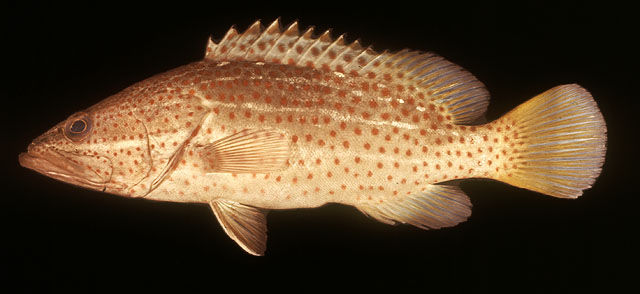fish: (21, 17, 607, 255)
